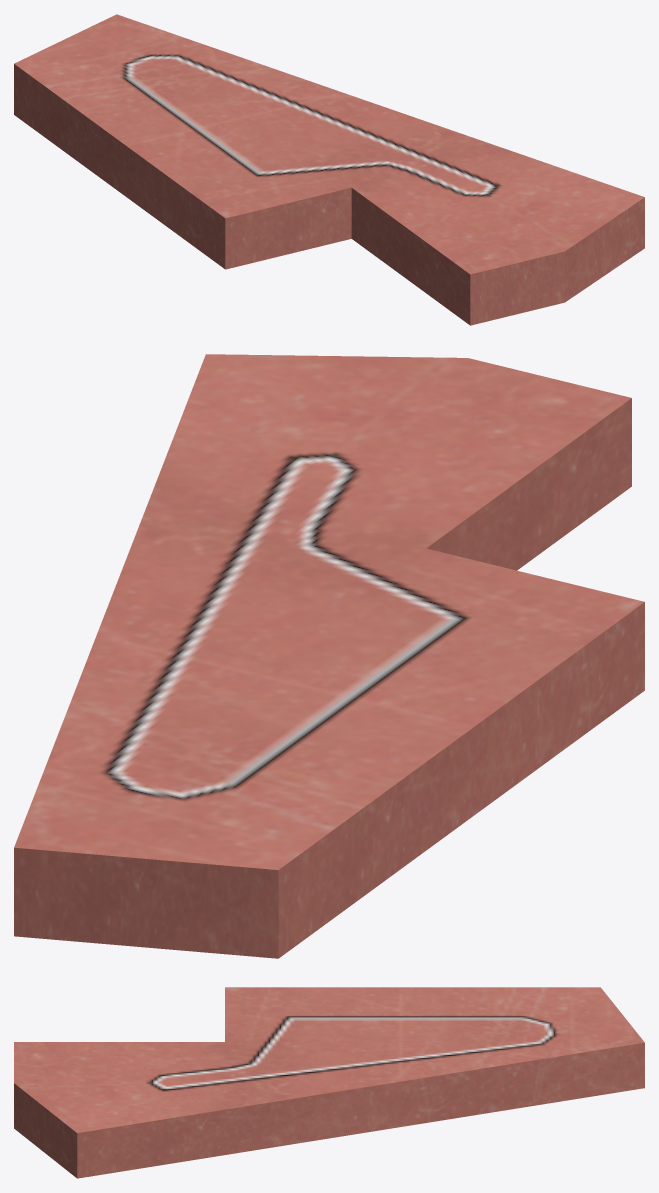
File: SM_SJJ_HG_Wall06J.fbx
3 renders of one model, top to bottom at view 1: azimuth 30°, elevation 25°; view 2: azimuth 150°, elevation 25°; view 3: azimuth 270°, elevation 25°, orthographic. The views are drawn at different scales.
Parts seen in each view (by area): view 1: SM_SJJ_HG_Wall06J; view 2: SM_SJJ_HG_Wall06J; view 3: SM_SJJ_HG_Wall06J.
Part boxes in pixels (left/top/right/bottom): SM_SJJ_HG_Wall06J: left=14, top=14, right=644, bottom=325; SM_SJJ_HG_Wall06J: left=14, top=354, right=644, bottom=958; SM_SJJ_HG_Wall06J: left=14, top=987, right=644, bottom=1178.
Bounding box in the file's own units: 68.83 × 126 × 10.
1 material, 1 textured.
